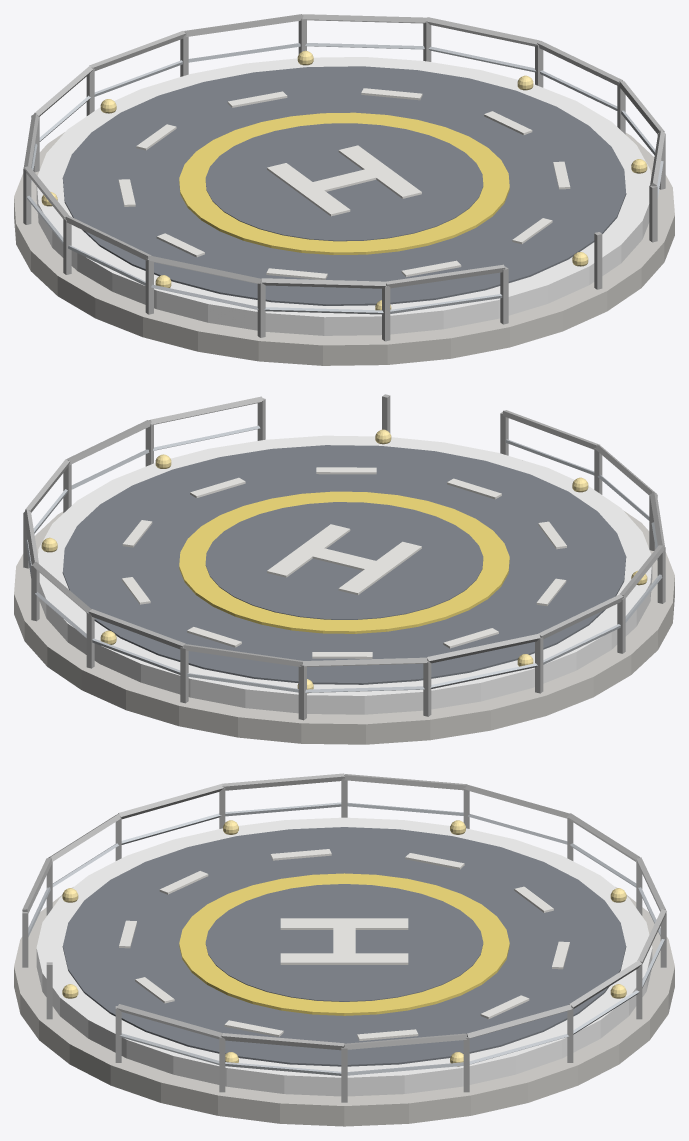
File: helipad.glb
The picture shows the model from 3 angles, top to bottom: view 1: azimuth 30°, elevation 25°; view 2: azimuth 150°, elevation 25°; view 3: azimuth 270°, elevation 25°; orthographic projection.
Visible parts, largest first — view 1: main; view 2: main; view 3: main.
Boxes of the visible parts, x1,y1,x2,y2 form: main: [14, 14, 674, 365]; main: [14, 394, 674, 744]; main: [14, 773, 674, 1126].
Bounding box in the file's own units: 1.76 × 0.2297 × 1.76.
